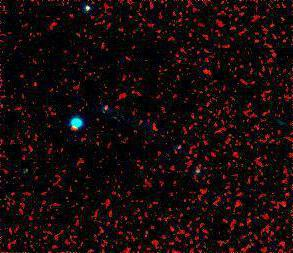star: (192, 57, 222, 87)
